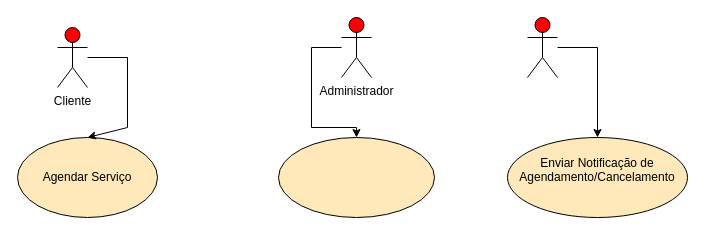
The diagram is 705 pixels wide and 235 high, and some of its shapes have lost their labels. The shapes that lost their labels are listed below. From the top down, each one's box as (x1, y1, x2, y2) in pixels, then its label:
(526, 16, 558, 78): Sistema
(278, 136, 434, 218): Gerenciar Agenda
